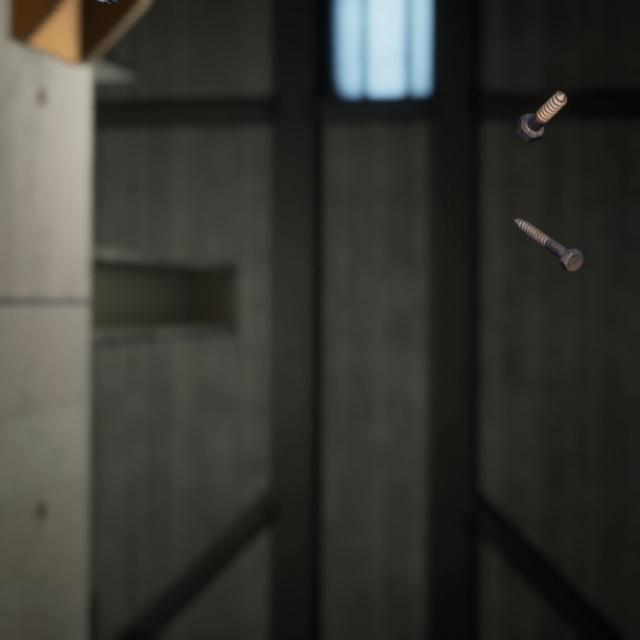bolt: (510, 198, 588, 260), (512, 74, 571, 134)
